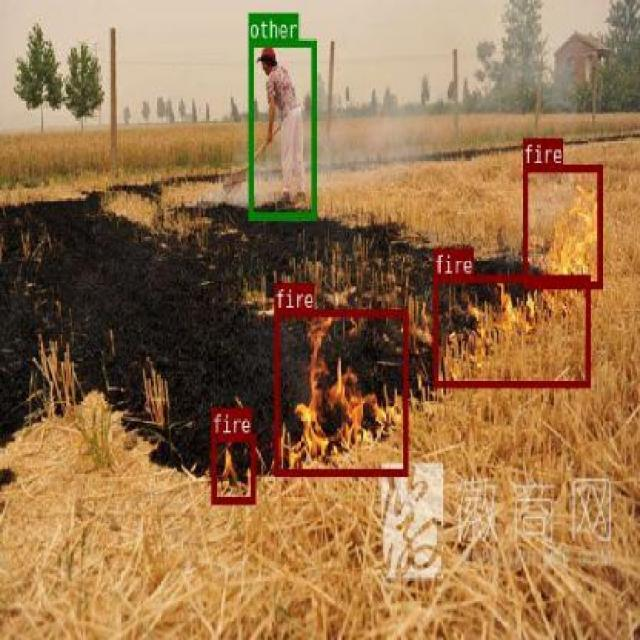Fire: (273, 308, 407, 474), (433, 272, 590, 386), (522, 164, 601, 288), (211, 434, 254, 502)
